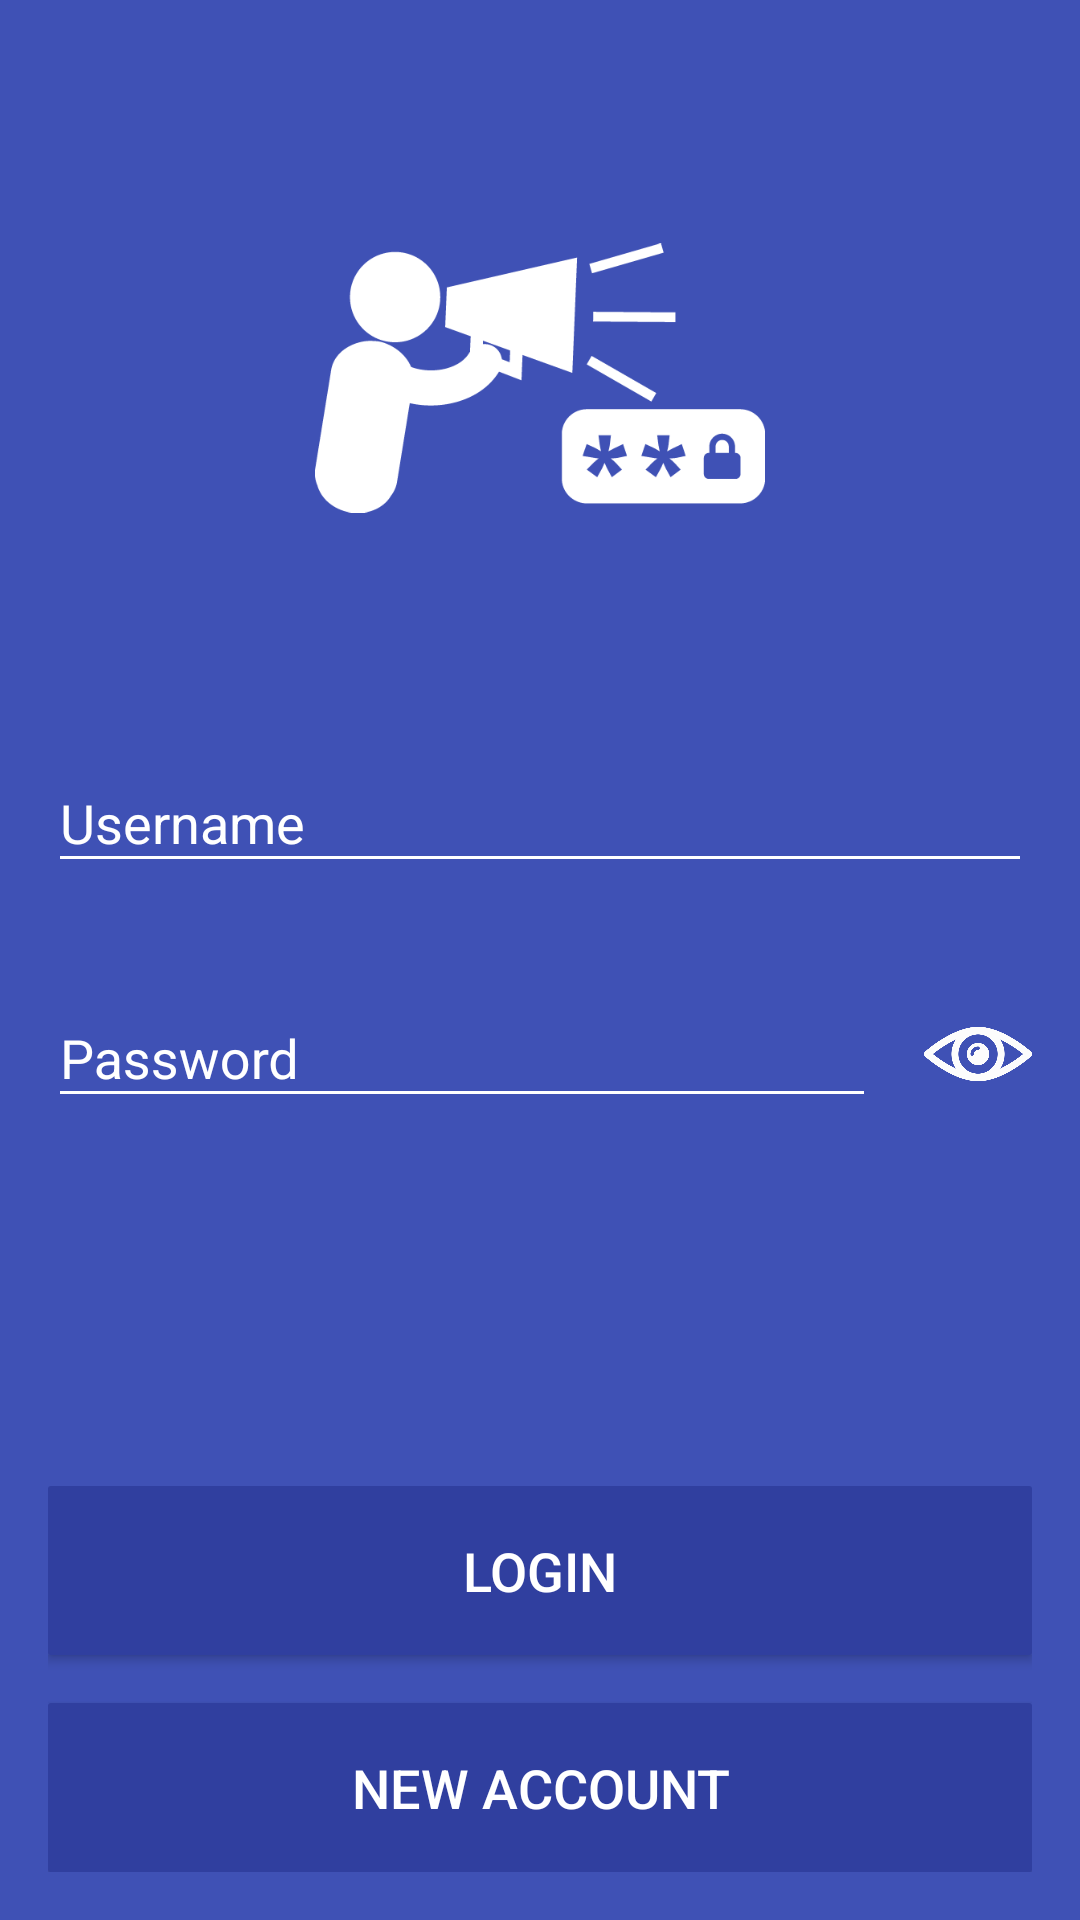

Icon click points for this 1080 x 1920 phone screenshot, format (x,y):
eye: (978,1054)
